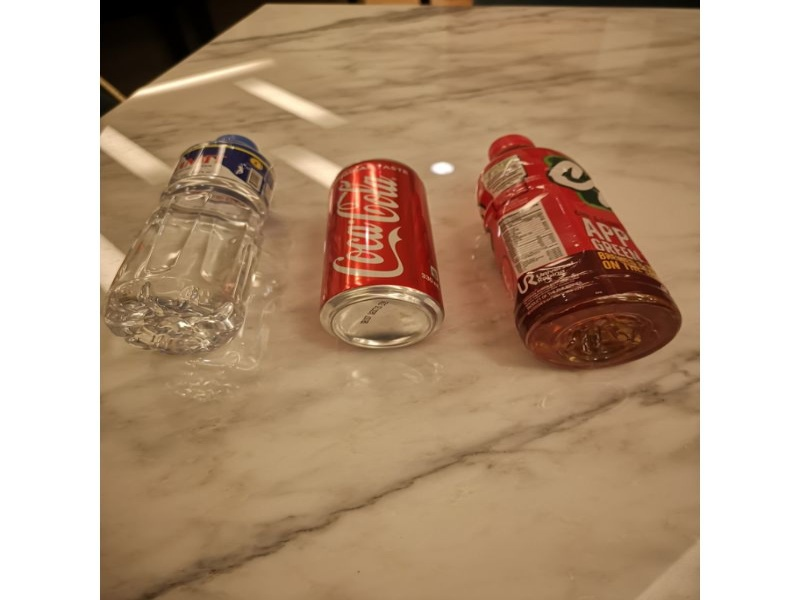PET #1: (476, 130, 687, 371), (106, 130, 272, 358)
